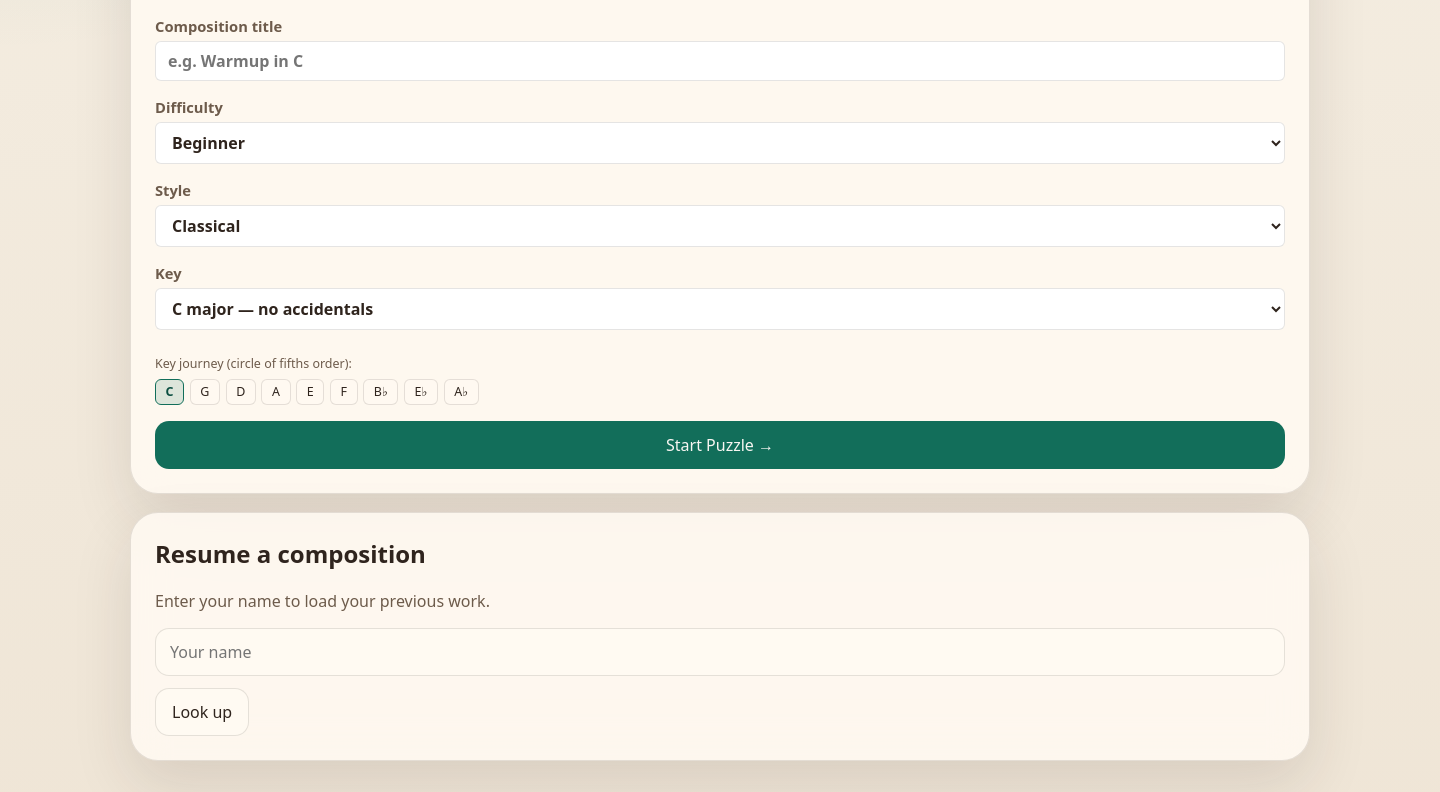
Test: Home page — Key Journey guide › clicking a chip updates the key dropdown
This screenshot has width=1440, height=792.
(page scrolled)
What coordinates should you click on to do the following:
click the button "G"
I would click on:
 (205, 392)
Its box is [190, 379, 220, 405].
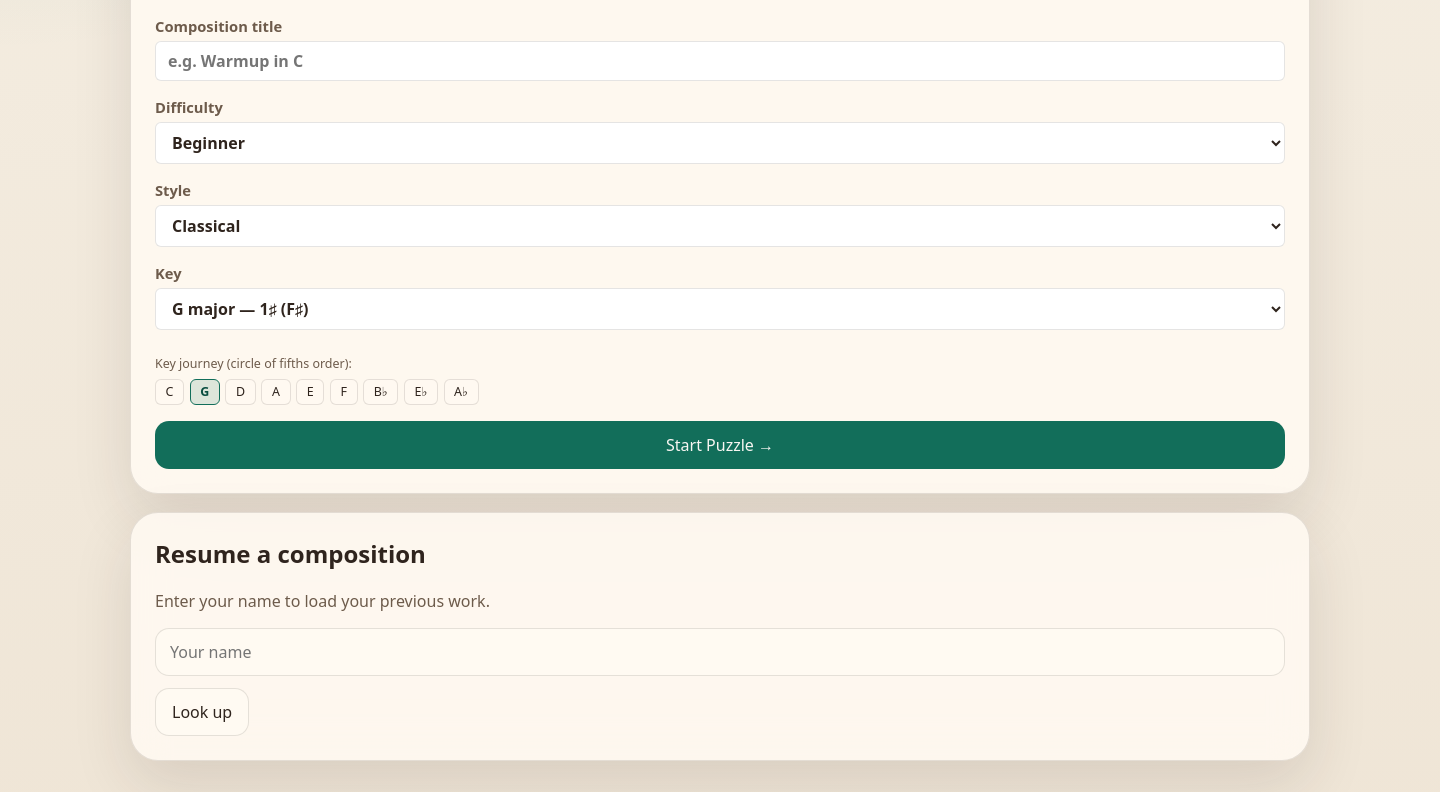
Check: the dropdown with id "key-input" shows "G major — 1♯ (F♯)", box [155, 288, 1285, 330]
